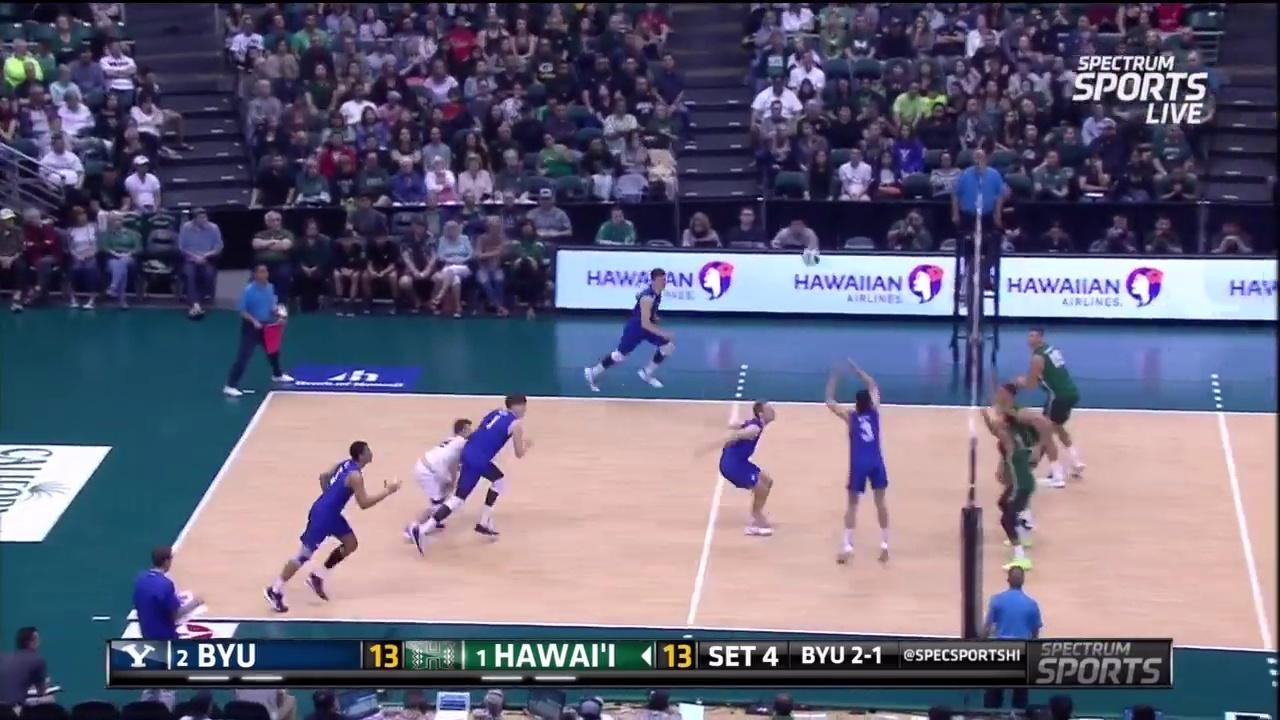player: (266, 439, 386, 605), (428, 391, 534, 554), (828, 357, 895, 559), (1019, 324, 1091, 484), (980, 416, 1051, 574), (586, 269, 674, 391), (981, 367, 1046, 523), (408, 416, 482, 543), (715, 403, 777, 534)
refree: (947, 136, 1014, 291), (984, 564, 1046, 710), (228, 265, 293, 392)
